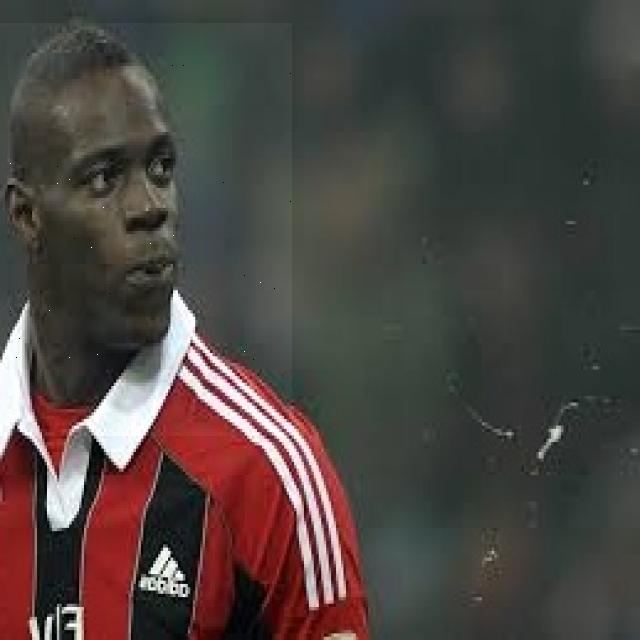Spitting: (0, 23, 292, 436)
